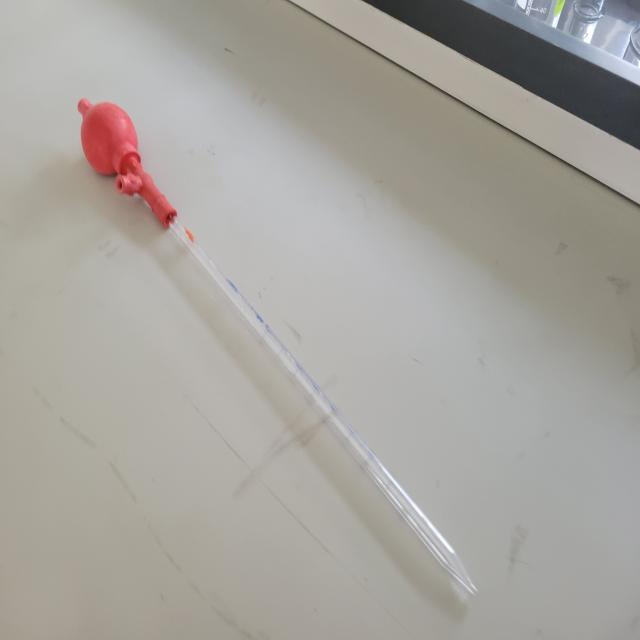Volumetric_Pipet: (56, 68, 490, 620)
